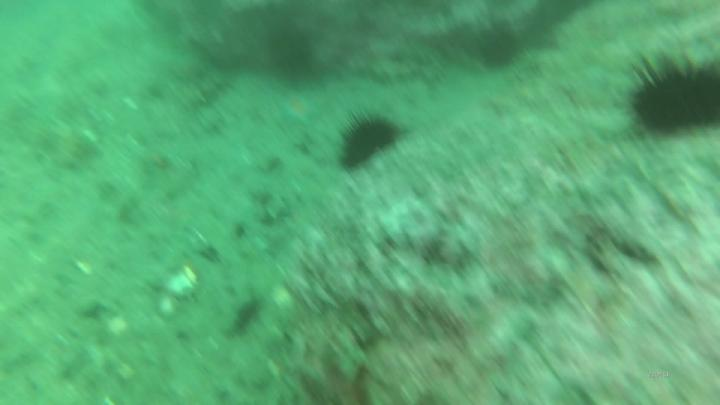echinus: (634, 70, 720, 134), (265, 27, 312, 74), (346, 121, 396, 160), (482, 27, 517, 64)
